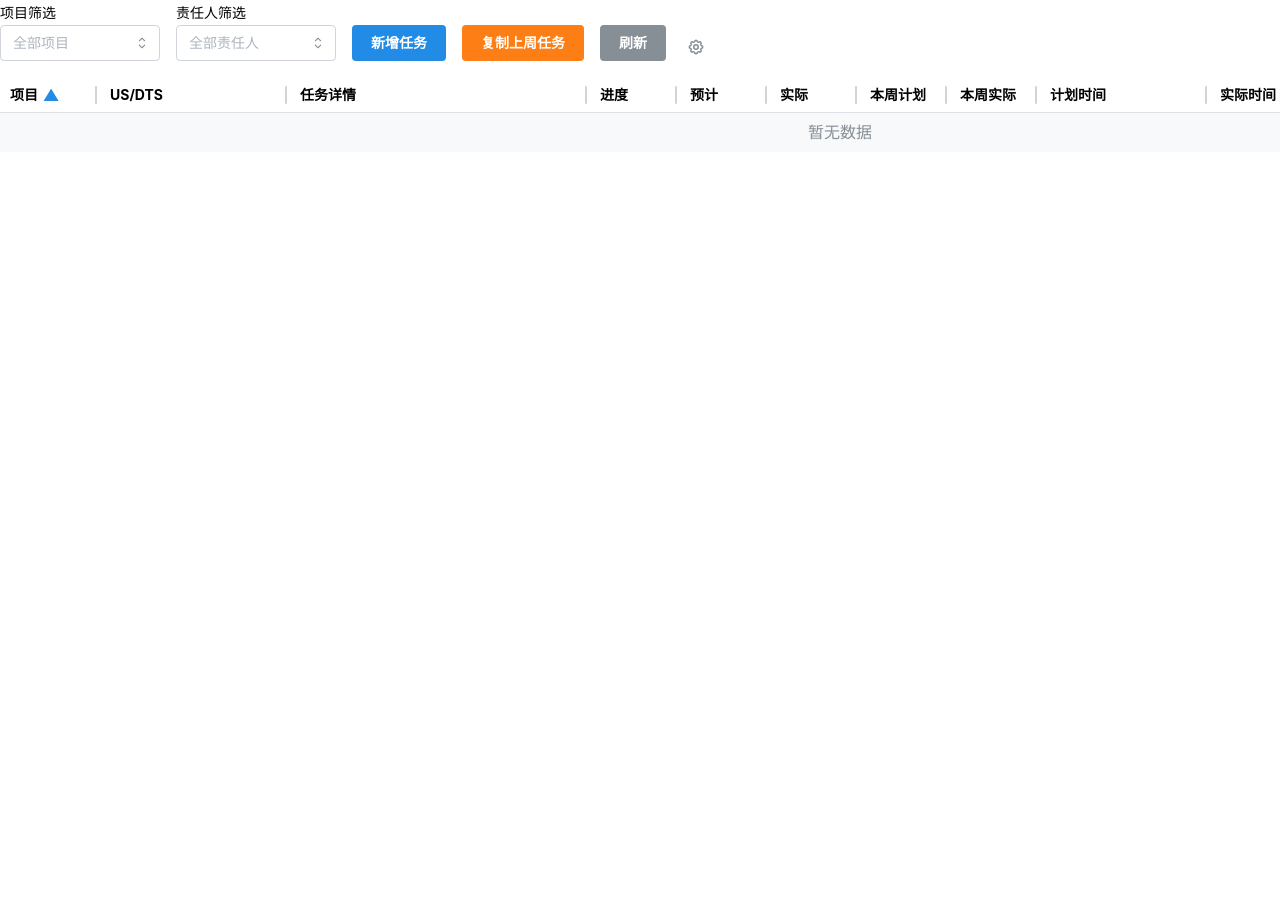
TaskTable 列配置隐藏集成测试 › 点击齿轮图标弹出 Popover 包含列 Checkbox
Click the 4th button: (696, 47) [682,33,710,61]
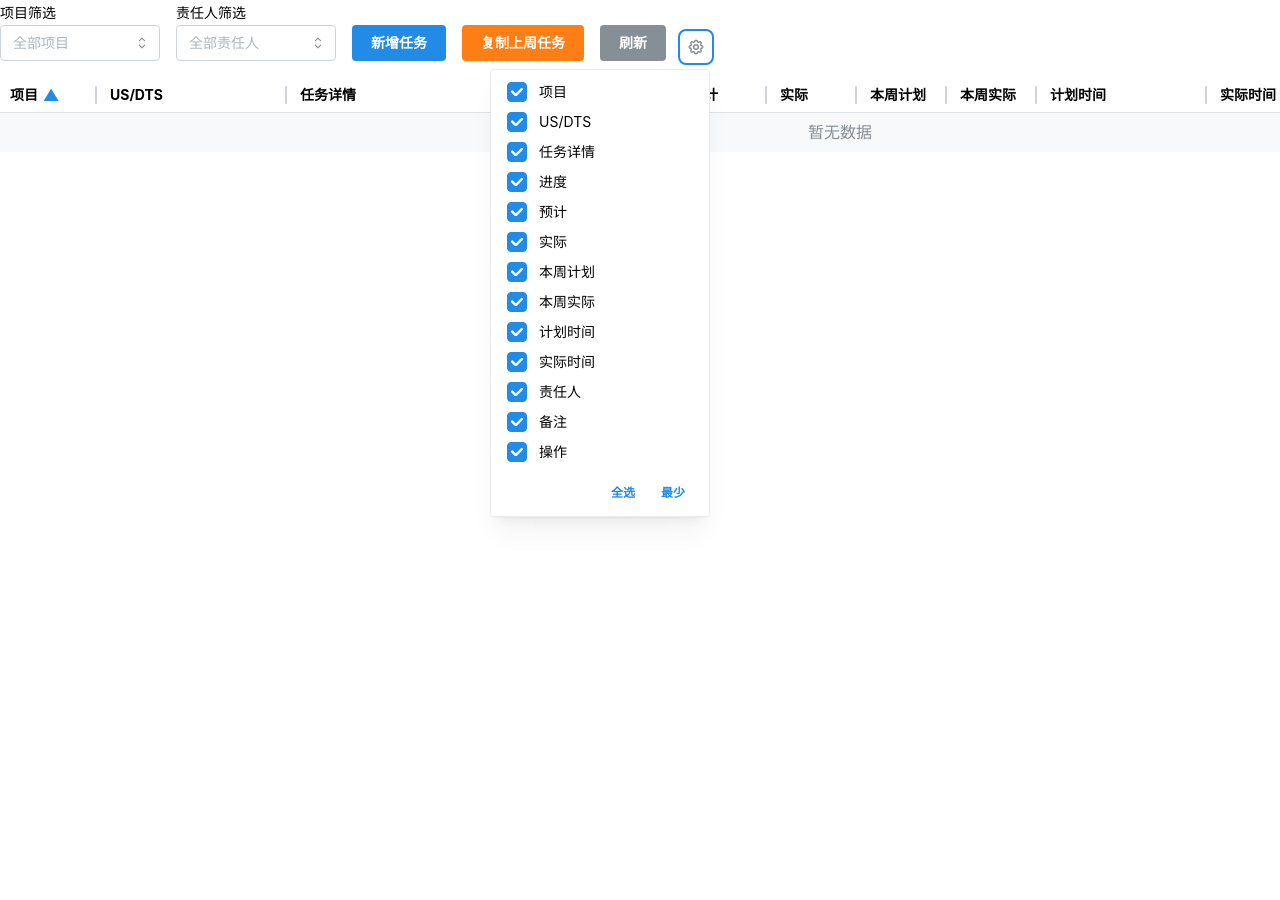
Now the checkbox labelled "项目" is shown, box [507,82,527,102]
Now the checkbox labelled "US/DTS" is shown, box [507,112,527,132]
Now the checkbox labelled "操作" is shown, box [507,442,527,462]
